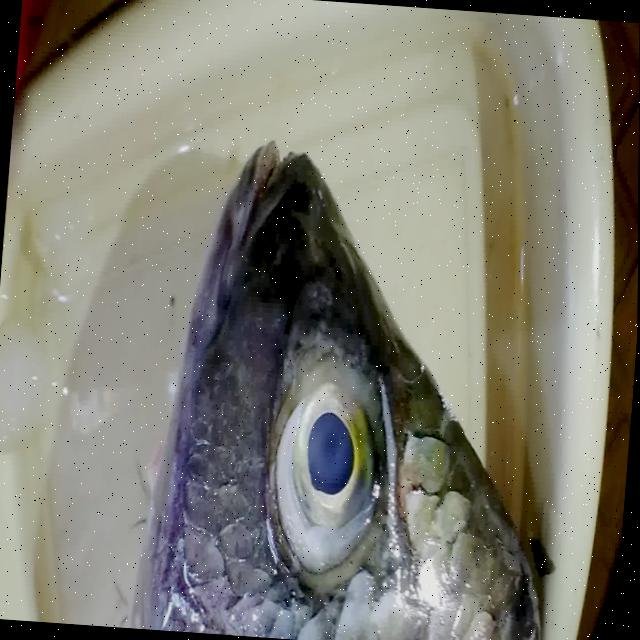Fresh: (253, 344, 398, 604)
